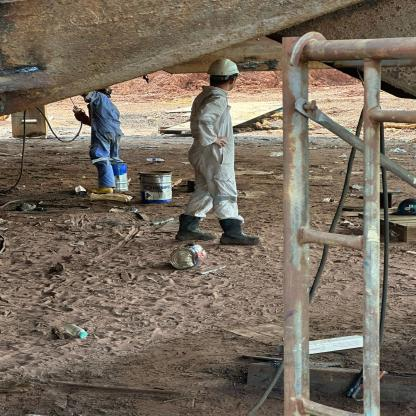bota: (219, 217, 262, 247), (177, 212, 218, 240), (90, 184, 116, 194)
